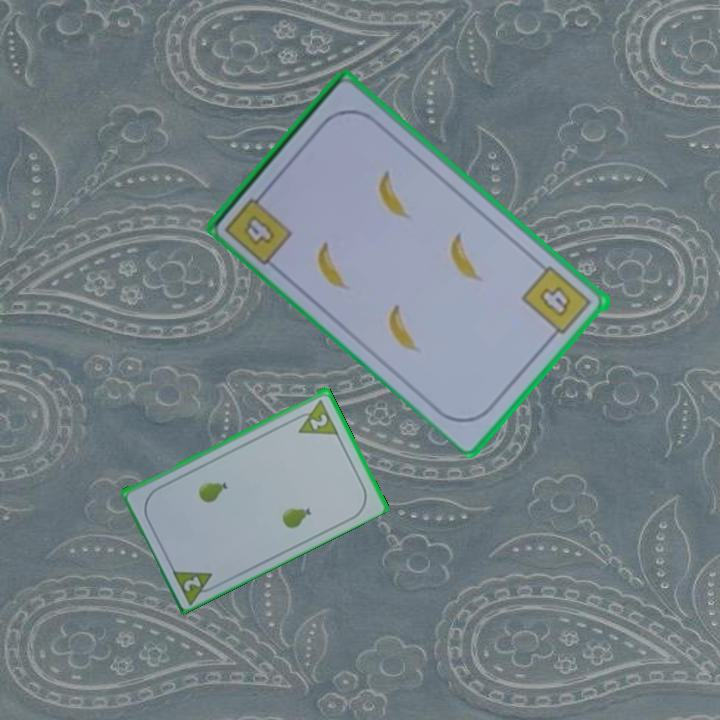2p: (289, 396, 341, 437), (180, 572, 204, 594)
4b: (519, 262, 595, 343), (240, 211, 279, 249)
